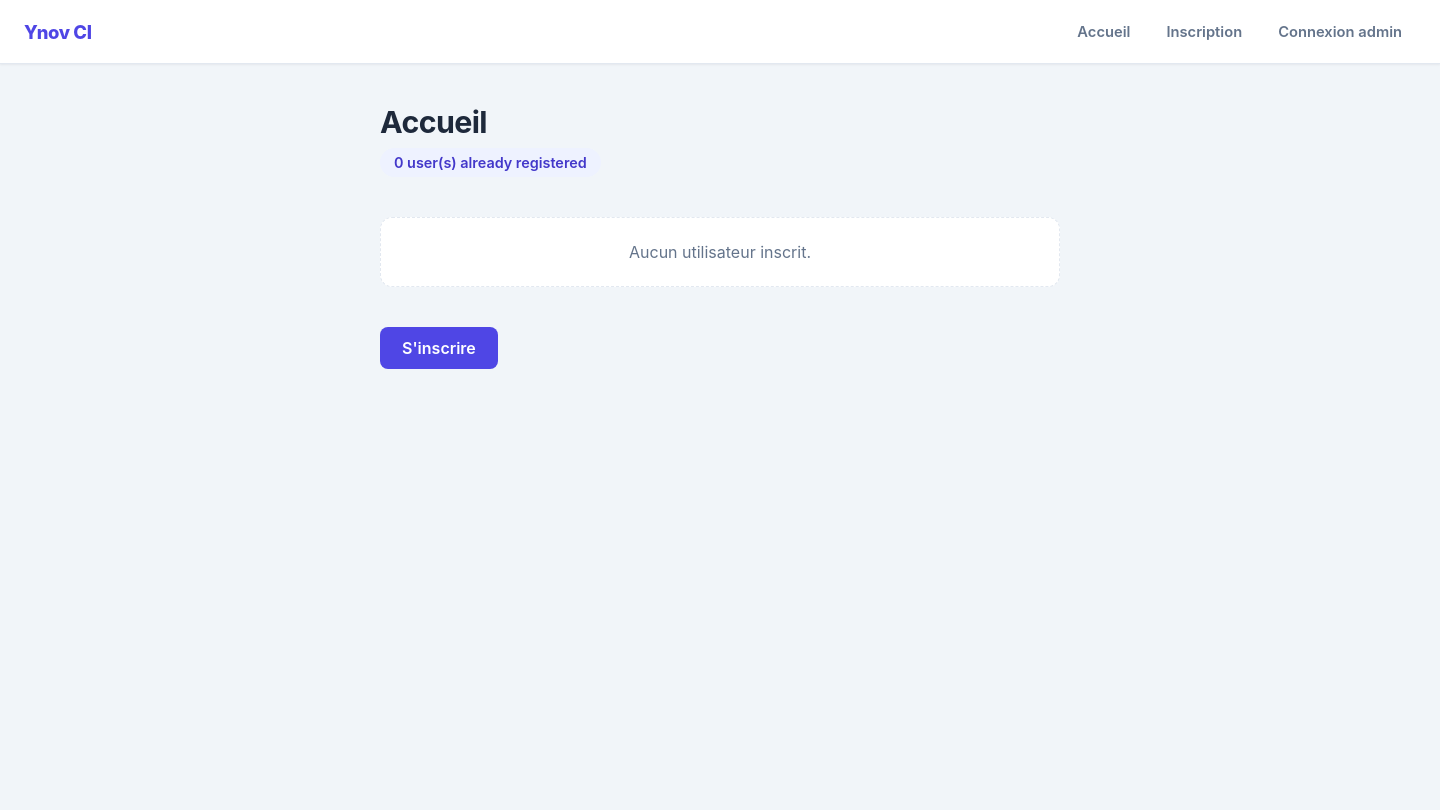
Test: App › navigue vers le formulaire d'inscription
expect the text "0 user(s) already registered" is shown: met, box left=380, top=148, right=601, bottom=177
Click the link with test id "nav-register". click: click(1204, 32)
box: left=1166, top=22, right=1242, bottom=40
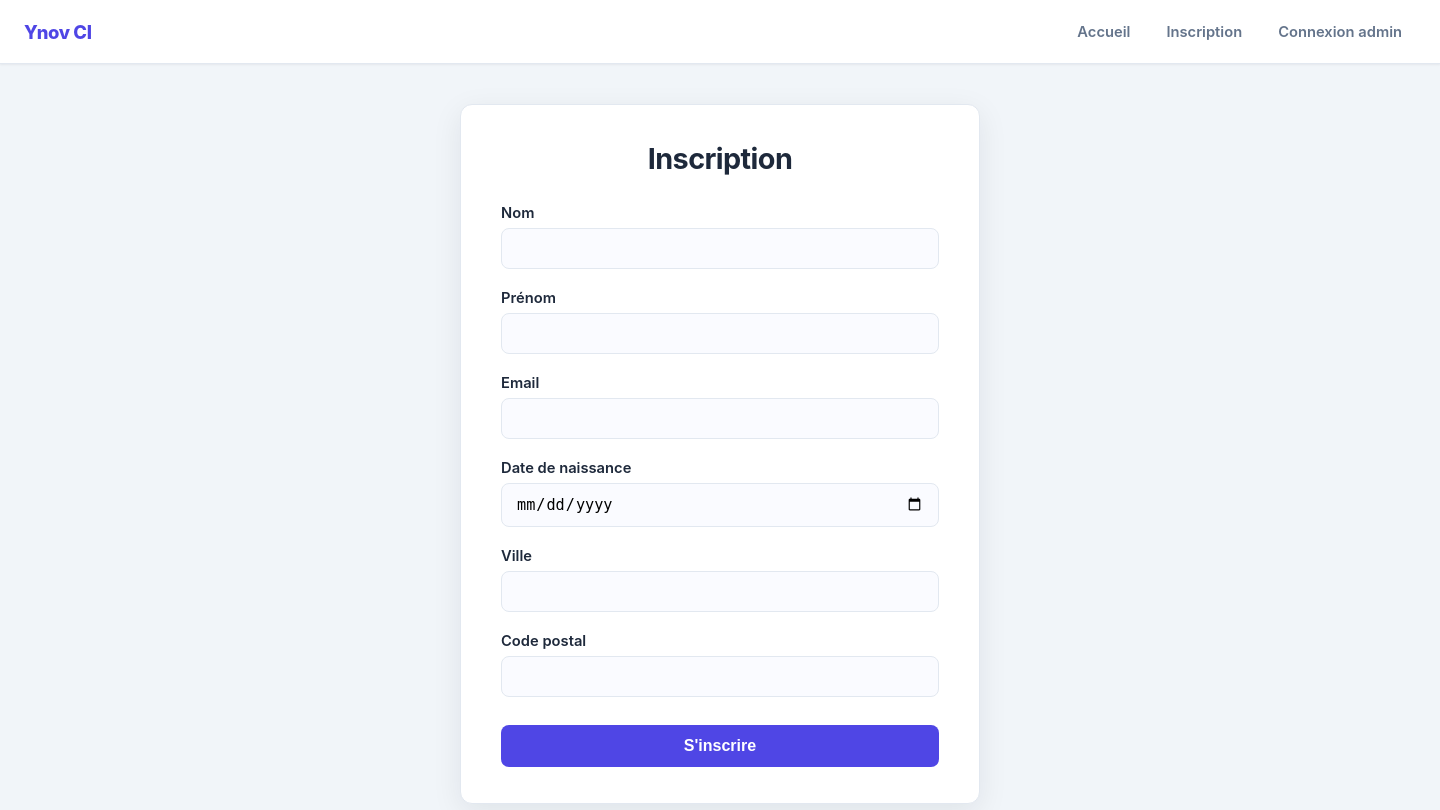
expect the heading "Inscription" is shown: met, box left=648, top=141, right=792, bottom=176
